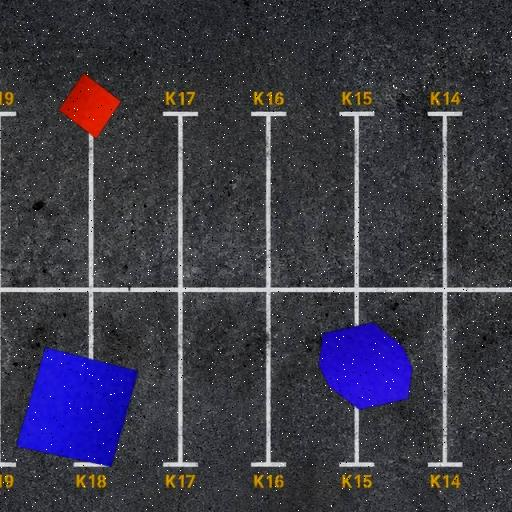BLUE_SQUARE: (15, 346, 139, 468)
RED_SQUARE: (58, 72, 122, 140)
